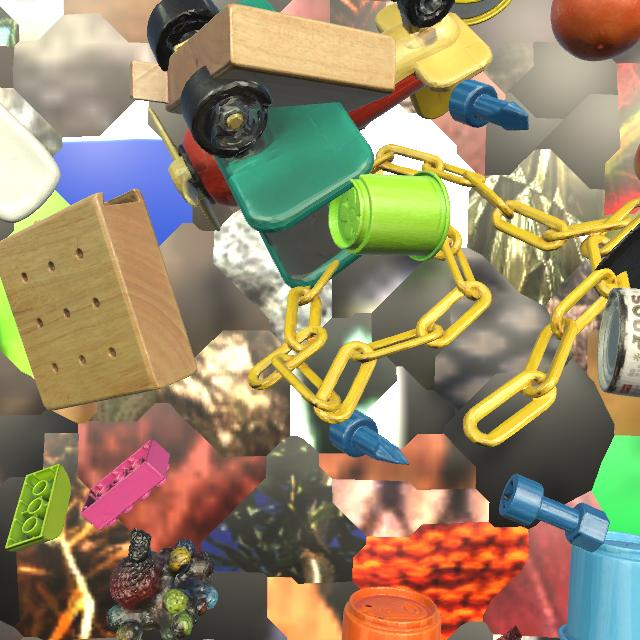ycb_005_tomato_soup_can: (597, 288, 640, 398)
ycb_015_peach: (634, 144, 640, 180)
ycb_017_orange: (551, 0, 640, 61)
